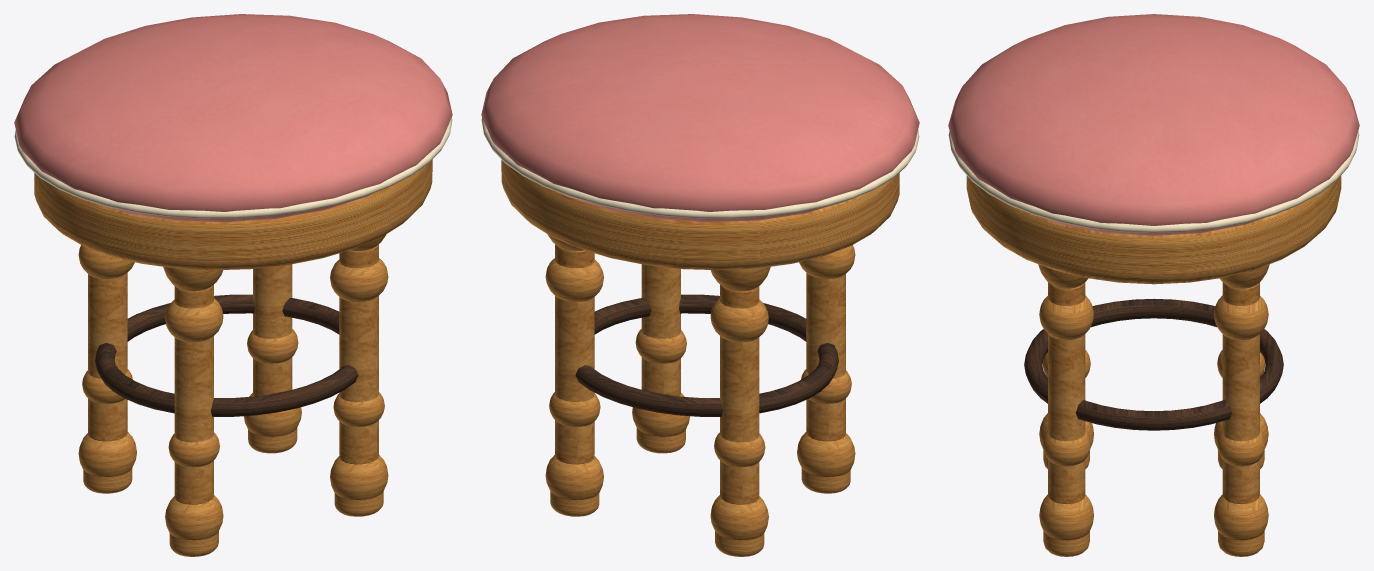
Rendered from SM_InteriorAdditions_Stool.fbx.
The picture shows the model from 3 angles, left to right: view 1: azimuth 30°, elevation 25°; view 2: azimuth 150°, elevation 25°; view 3: azimuth 270°, elevation 25°; orthographic projection.
Parts seen in each view (by area): view 1: SM_InteriorAdditions_Stool; view 2: SM_InteriorAdditions_Stool; view 3: SM_InteriorAdditions_Stool.
Boxes of the visible parts, box(x1,y1,x2,y2) form: SM_InteriorAdditions_Stool: box(14, 14, 452, 556); SM_InteriorAdditions_Stool: box(481, 14, 919, 556); SM_InteriorAdditions_Stool: box(948, 14, 1359, 556).
Size of what is drawn, in the model's own units: 61.34 by 55.71 by 65.72.
